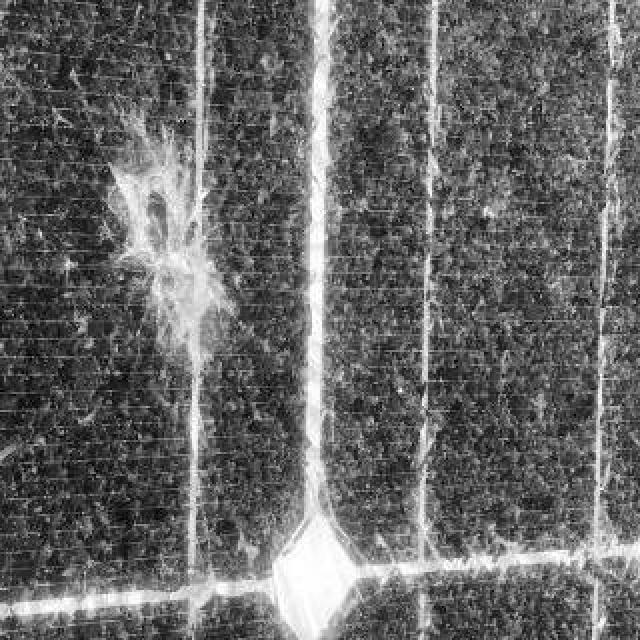Physical-damage: (273, 521, 361, 640), (120, 152, 196, 262), (163, 239, 225, 354)
